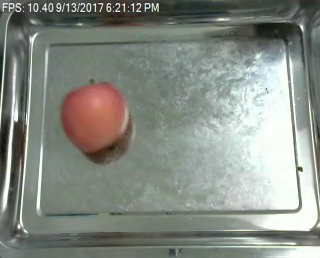Apple: (60, 79, 129, 156)
